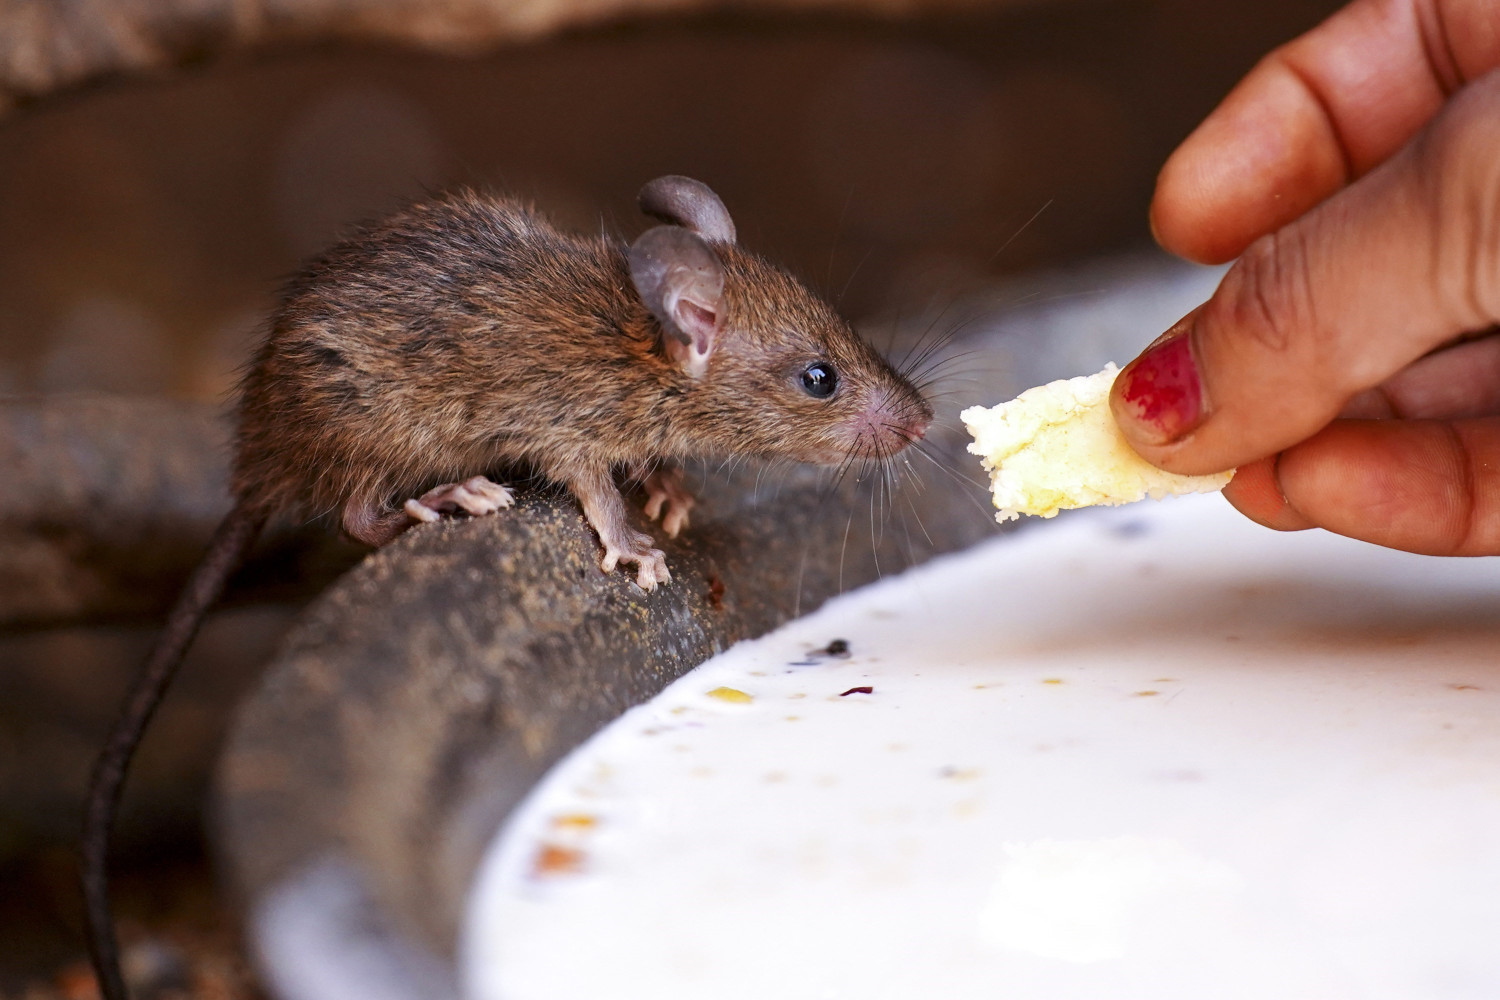rat: (70, 166, 956, 998)
